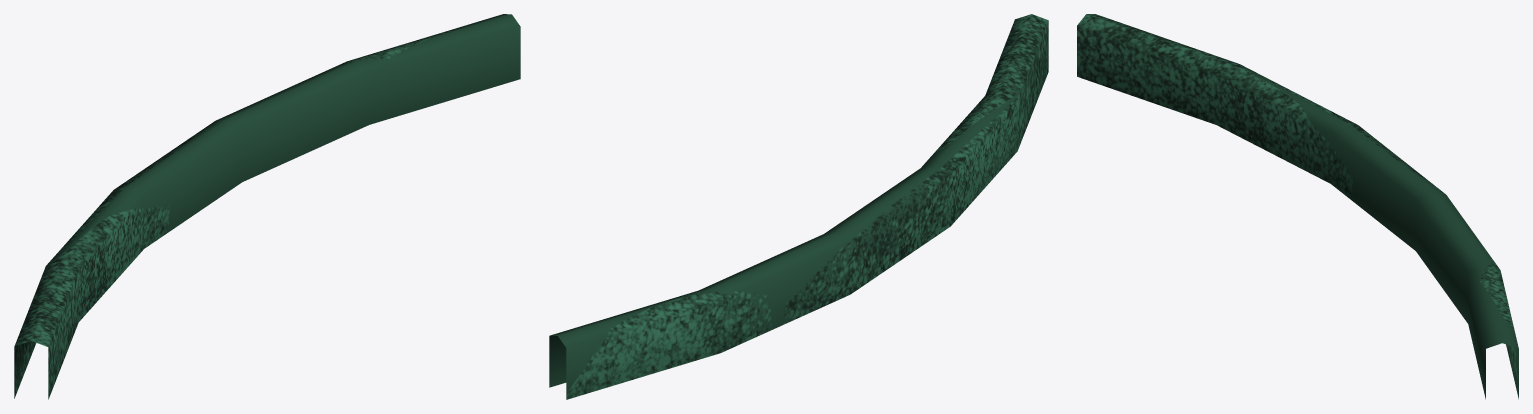
Rendered from Ring41.fbx.
3 renders of one model, left to right at view 1: azimuth 30°, elevation 25°; view 2: azimuth 210°, elevation 25°; view 3: azimuth 270°, elevation 25°, orthographic. The views are drawn at different scales.
Visible parts, largest first — view 1: Ring41; view 2: Ring41; view 3: Ring41.
Part boxes in pixels (x1=…): Ring41: x1=14, y1=14, x2=520, y2=399; Ring41: x1=549, y1=14, x2=1048, y2=399; Ring41: x1=1077, y1=14, x2=1518, y2=399.
Bounding box in the file's own units: 5054 × 400 × 2818.
